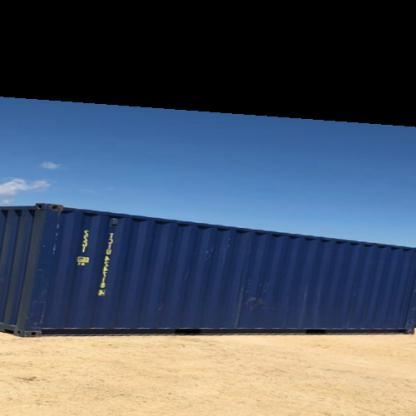Damage: (23, 208, 58, 323), (225, 274, 276, 322)
